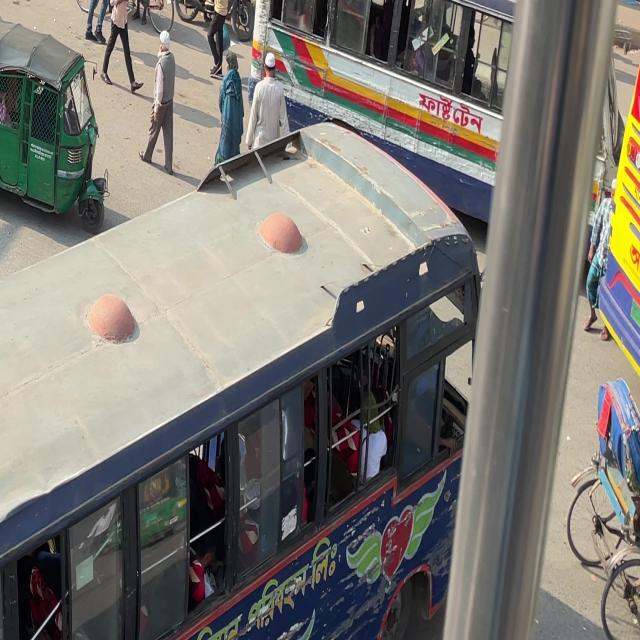motorbike: (172, 0, 256, 44)
rickshaw: (0, 1, 114, 240)
van: (253, 0, 628, 268)
